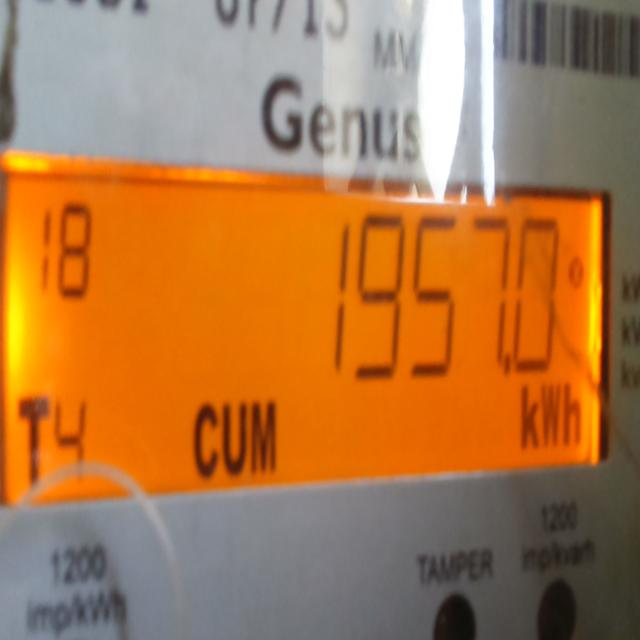.: (502, 348, 512, 385)
0: (514, 207, 559, 378)
1: (318, 197, 357, 376), (33, 196, 55, 292)
5: (413, 211, 461, 388)
7: (471, 203, 511, 380)
8: (56, 199, 100, 308)
9: (356, 203, 405, 392)
